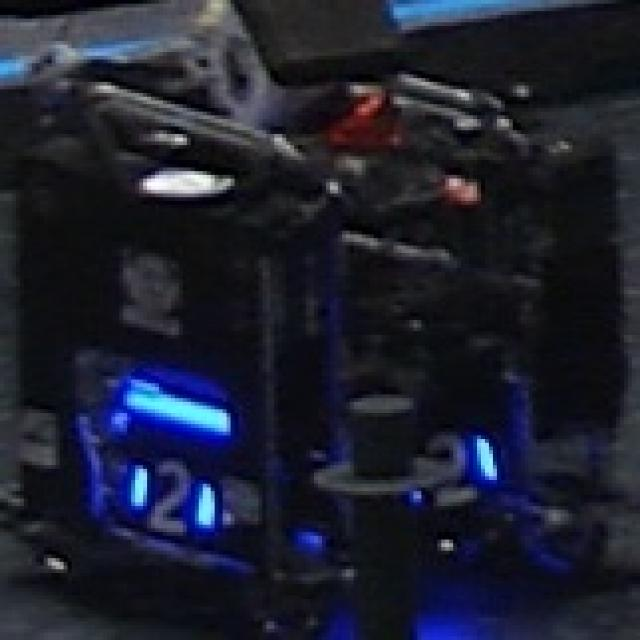B2: (374, 418, 505, 512), (110, 447, 236, 532)
